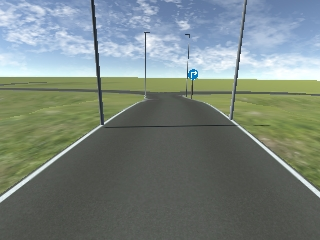right: (186, 69, 199, 78)
